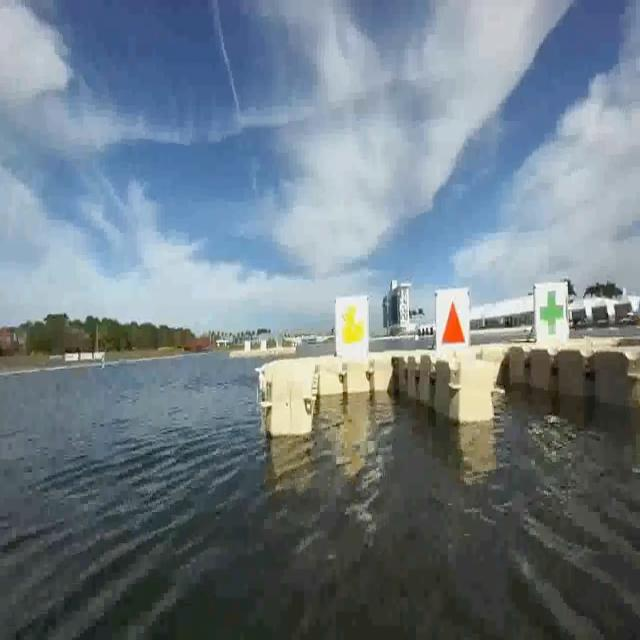blue-cross: (534, 282, 568, 340)
red-dot: (439, 290, 468, 352)
yellow-duck: (341, 301, 365, 344)
